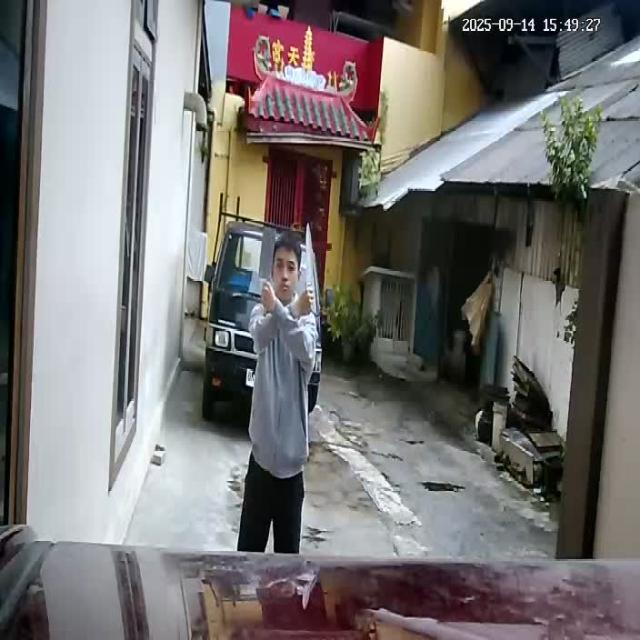senjata_tajam: (258, 226, 276, 280), (303, 222, 314, 286)
